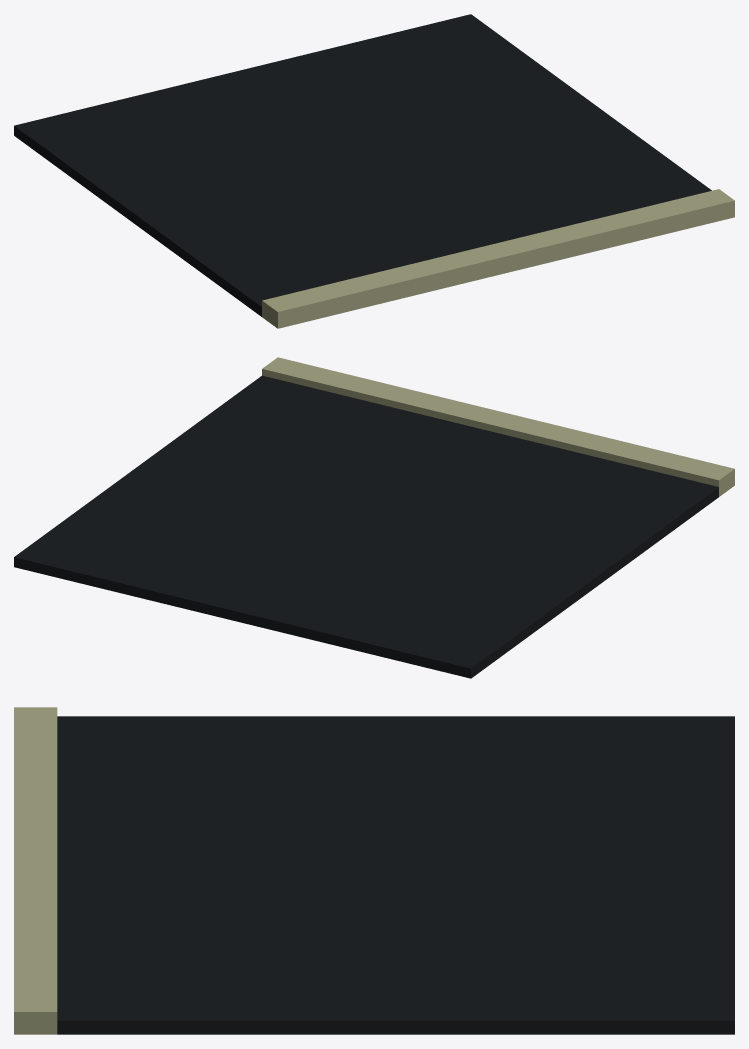
Rendered from road_side.fbx.
3 views of the same model, one above another, from view 1: azimuth 30°, elevation 25°; view 2: azimuth 150°, elevation 25°; view 3: azimuth 270°, elevation 25° (orthographic). The views are drawn at different scales.
Visible parts, largest first — view 1: side; view 2: side; view 3: side.
Boxes of the visible parts, x1=… form: side: x1=14, y1=14, x2=734, y2=328; side: x1=14, y1=357, x2=734, y2=678; side: x1=14, y1=707, x2=734, y2=1034.
Bounding box in the file's own units: 500 × 17.5 × 500.
